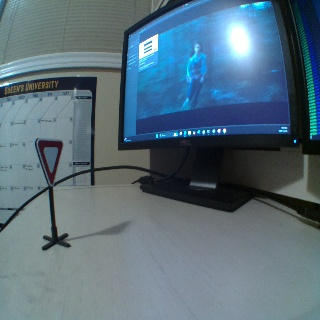sign_yield: (35, 137, 64, 187)
